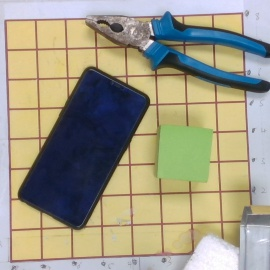phone: (18, 66, 151, 229)
